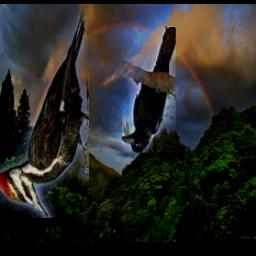Crow: (123, 26, 177, 153)
Woodpecker: (0, 6, 89, 219)
